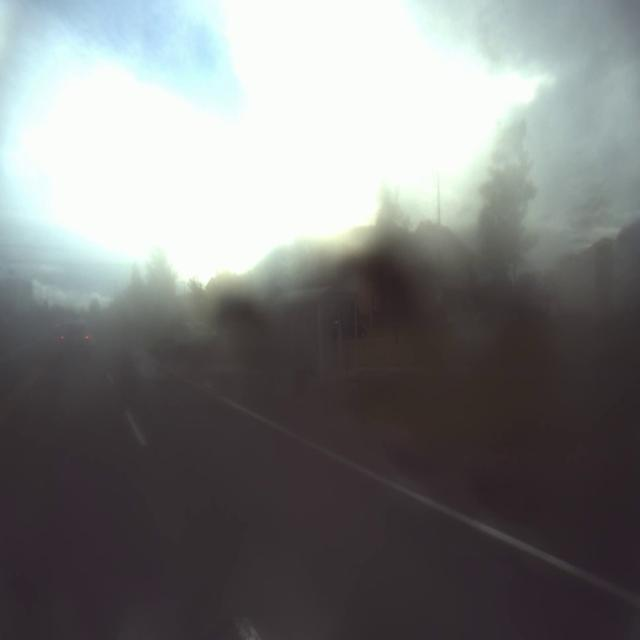car: (54, 318, 94, 362)
